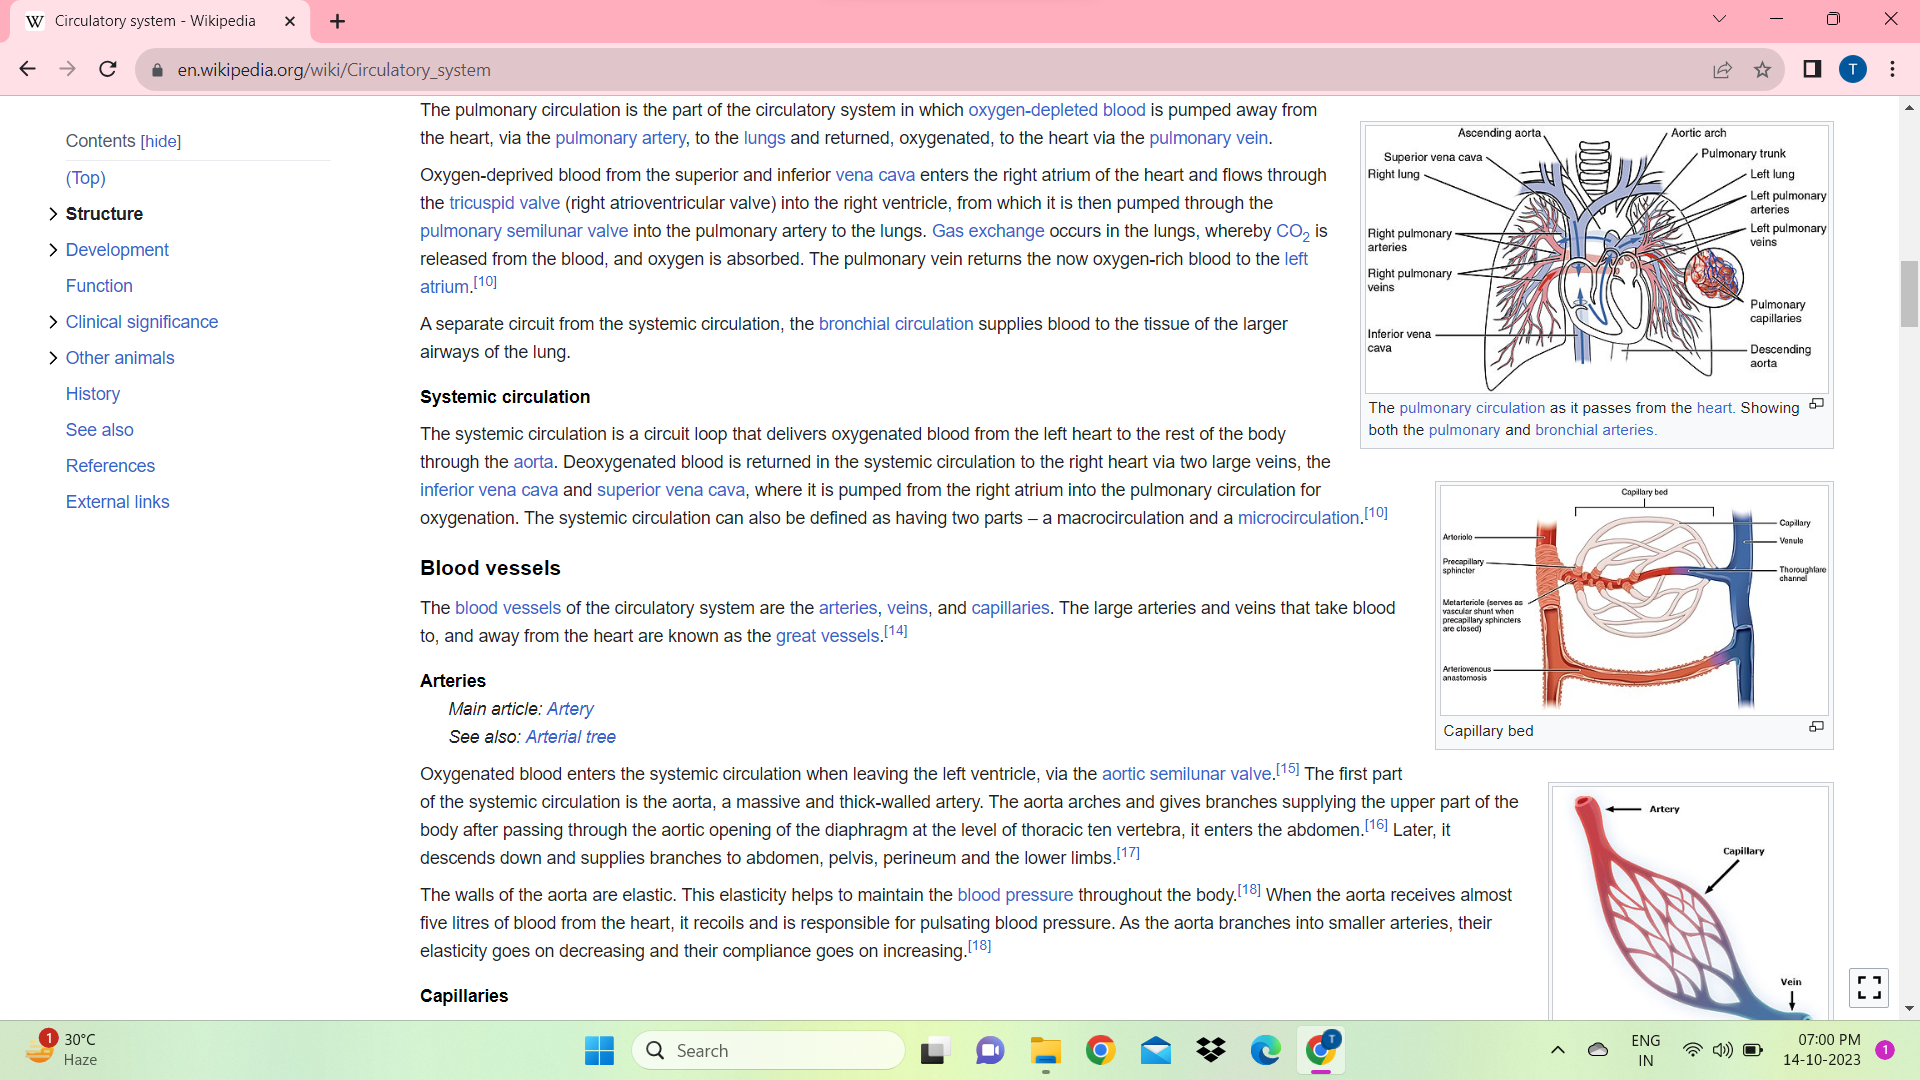Image: (1353, 108, 1846, 397), (1435, 471, 1838, 716), (1564, 773, 1838, 1014)
Paragraph: (406, 744, 1556, 862), (411, 160, 1337, 306), (417, 418, 1404, 539), (406, 876, 1538, 977), (406, 299, 1313, 377), (418, 98, 1324, 160), (411, 600, 1425, 649), (58, 295, 233, 335), (406, 550, 578, 589), (50, 121, 223, 160), (406, 386, 597, 410), (50, 488, 196, 516), (57, 193, 160, 228), (58, 411, 152, 440), (61, 373, 138, 406), (411, 667, 506, 692)
